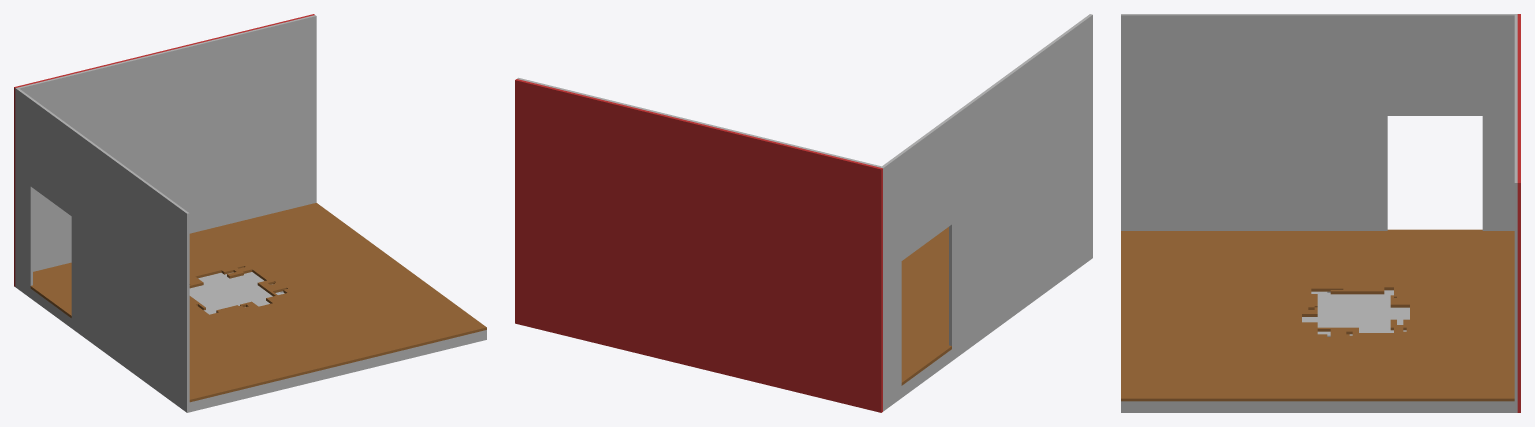
The model's file is 4x2 first (2)-4.obj.
3 renders of one model, left to right at view 1: azimuth 30°, elevation 25°; view 2: azimuth 150°, elevation 25°; view 3: azimuth 270°, elevation 25°, orthographic. The views are drawn at different scales.
Parts seen in each view (by area): view 1: 4x2 first (2)-4; view 2: 4x2 first (2)-4; view 3: 4x2 first (2)-4.
Part boxes in pixels (box(x1,y1,x2,y2)): 4x2 first (2)-4: box(14, 14, 486, 412); 4x2 first (2)-4: box(515, 14, 1092, 412); 4x2 first (2)-4: box(1121, 14, 1520, 412).
Size of the model in its own units: 126 by 80 by 126.
Materials: 1 (1 with a texture image).
